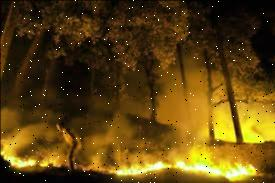fire: (1, 135, 260, 180)
